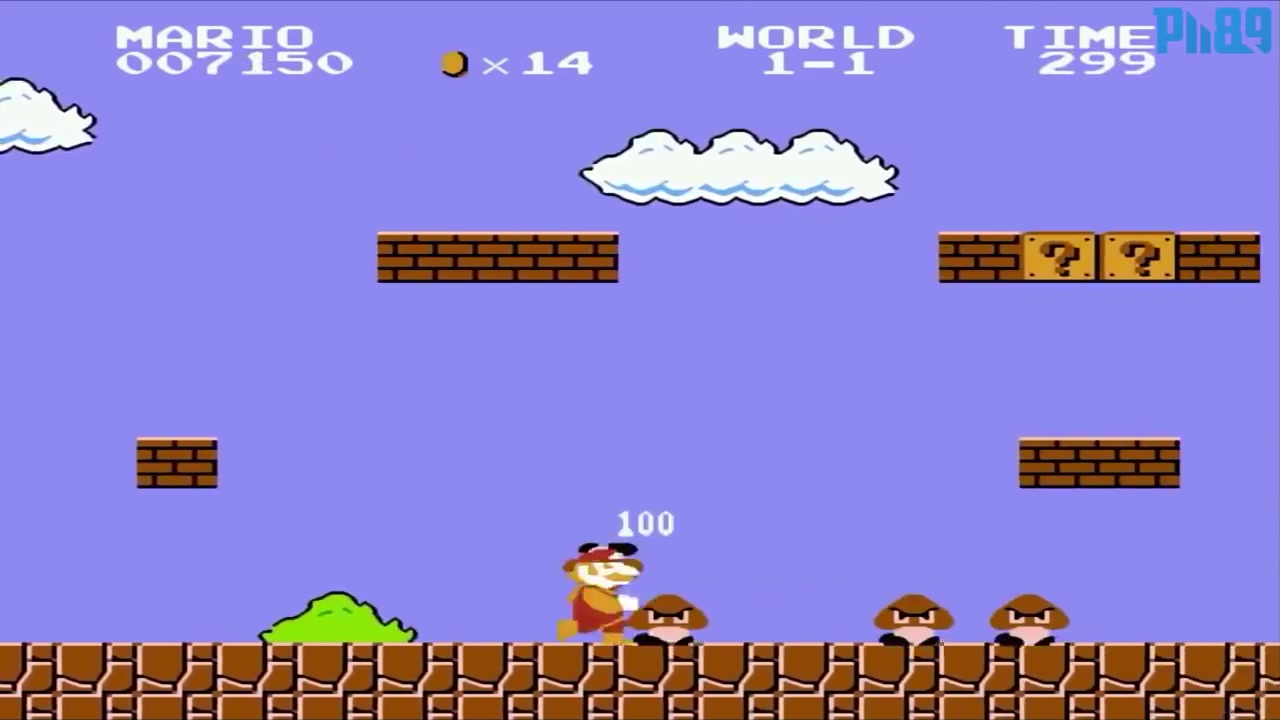mario: (549, 538, 646, 643)
